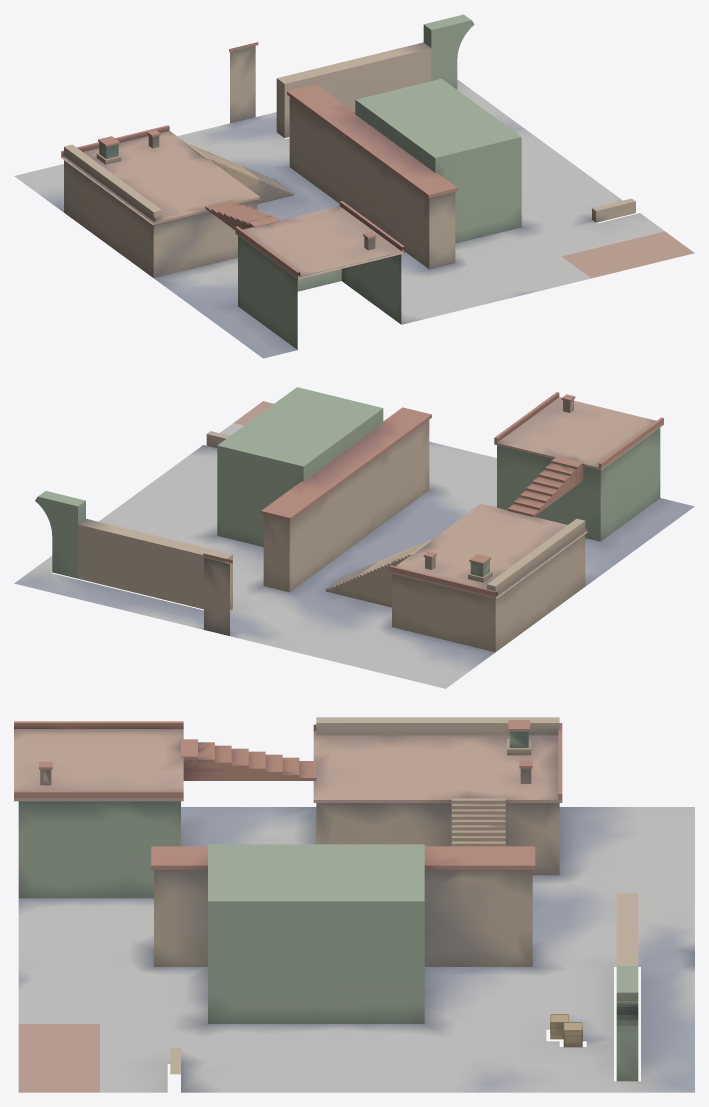
The picture shows the model from 3 angles, top to bottom: view 1: azimuth 30°, elevation 25°; view 2: azimuth 150°, elevation 25°; view 3: azimuth 270°, elevation 25°; orthographic projection. The views are drawn at different scales.
Parts seen in each view (by area): view 1: t; view 2: t; view 3: t.
Boxes of the visible parts, bbox=[...] form: t: bbox=[14, 14, 694, 358]; t: bbox=[14, 387, 694, 688]; t: bbox=[14, 717, 694, 1092].
Size of the model in its own units: 50.2 by 10 by 50.35.
